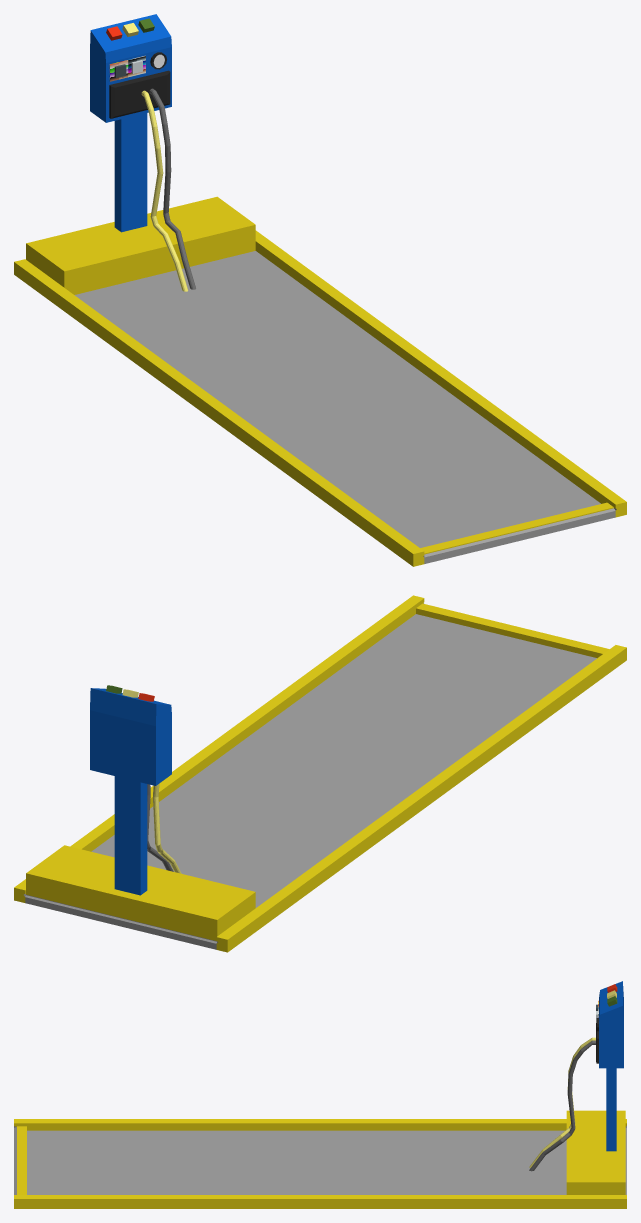
Rendered from MHE_Charger.fbx.
3 views of the same model, one above another, from view 1: azimuth 30°, elevation 25°; view 2: azimuth 150°, elevation 25°; view 3: azimuth 270°, elevation 25° (orthographic). The views are drawn at different scales.
Parts seen in each view (by area): view 1: MHE_Charger; view 2: MHE_Charger; view 3: MHE_Charger.
Boxes of the visible parts, x1,y1,x2,y2 form: MHE_Charger: (14,14,626,566); MHE_Charger: (14,595,626,952); MHE_Charger: (14,981,626,1208).
Bounding box in the file's own units: 1.32 × 1.4 × 4.29.
